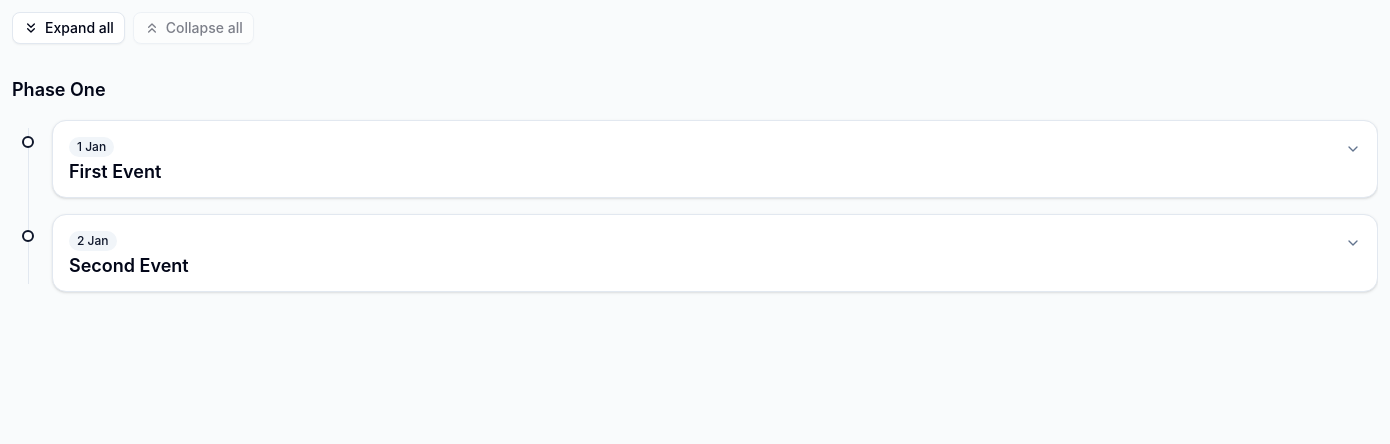
it: Timeline expand/collapse all › individually opening every card also disables expand all
Click the button "1 Jan First Event" at (92, 147), box [53,121,1377,197]
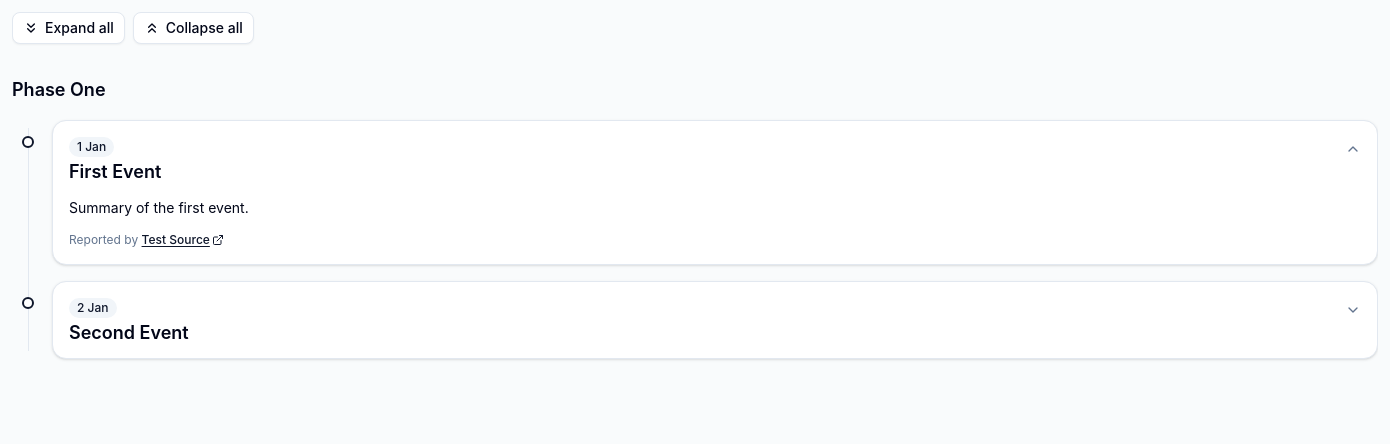
Click the button "2 Jan Second Event" at (93, 308), box [53,282,1377,358]
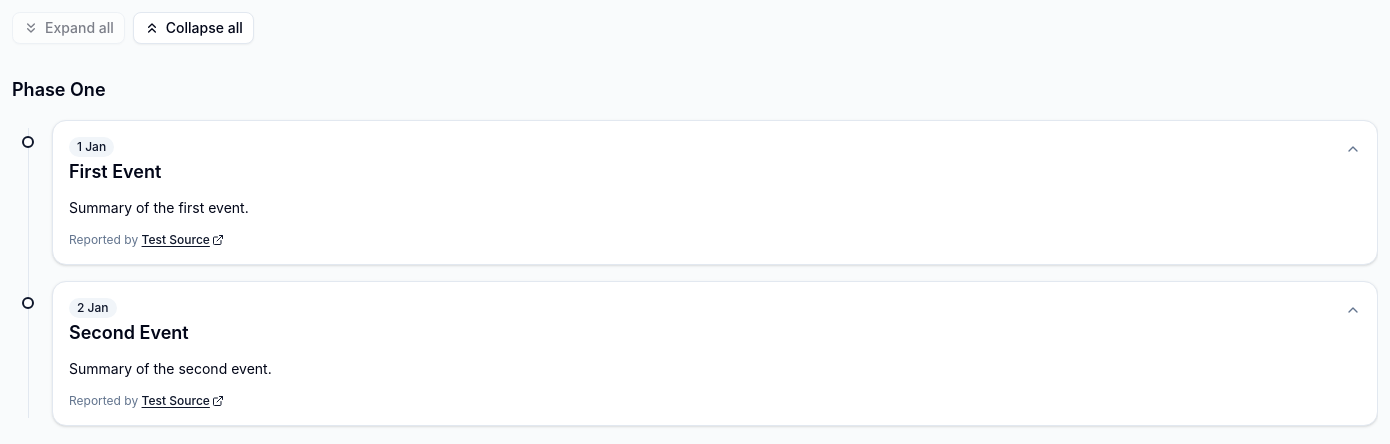
Now the button "Expand all" is disabled, box [12,12,125,44]
